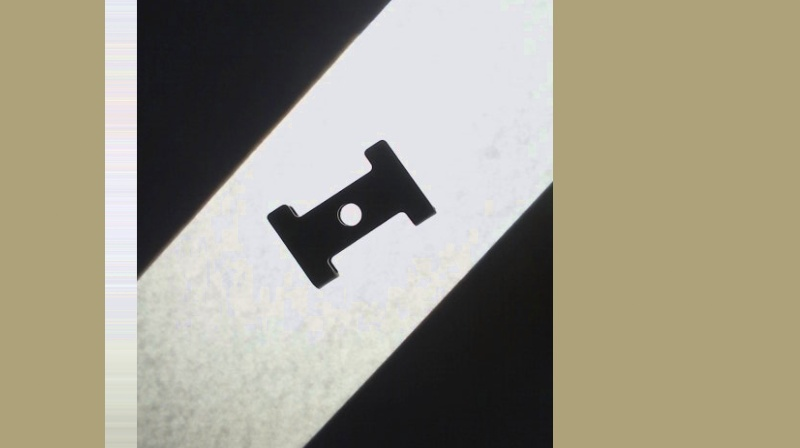O002: (263, 133, 437, 290)
